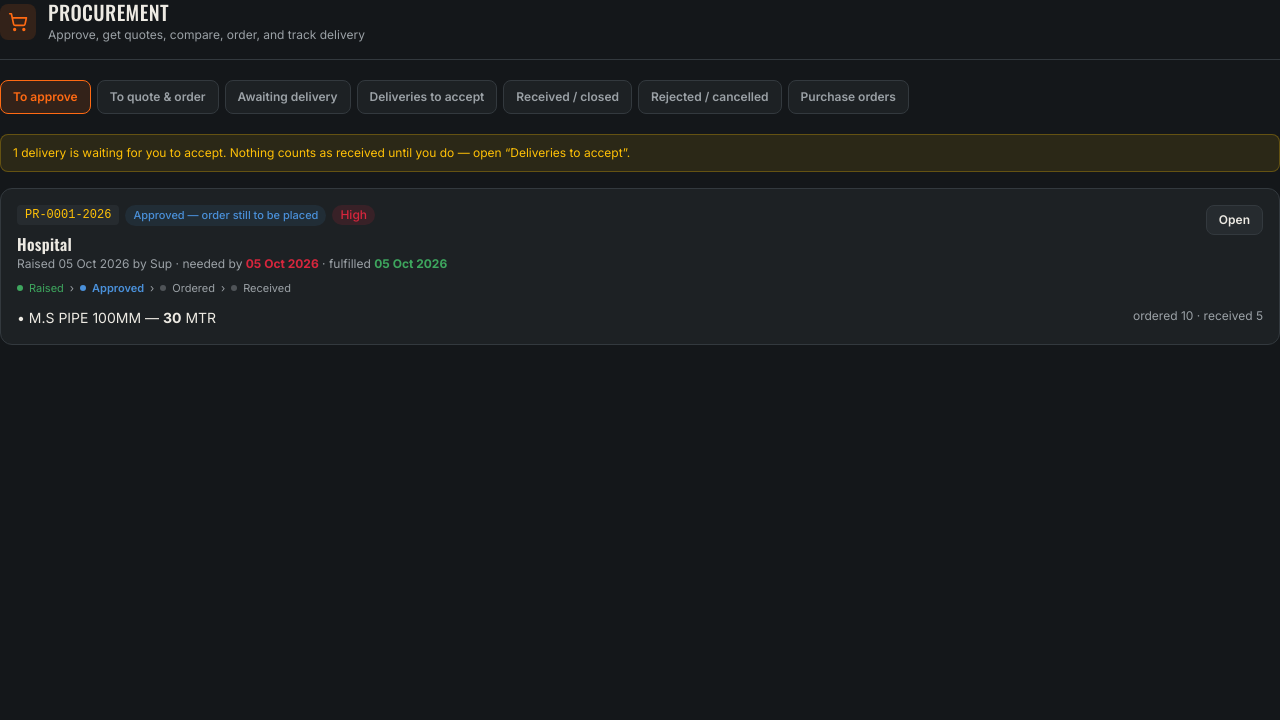
it: interactive paths render › Procurement request desk opens with comparison
The width and height of the screenshot is (1280, 720).
Click the button "To quote & order". click: (158, 97)
box: [97,80,218,114]
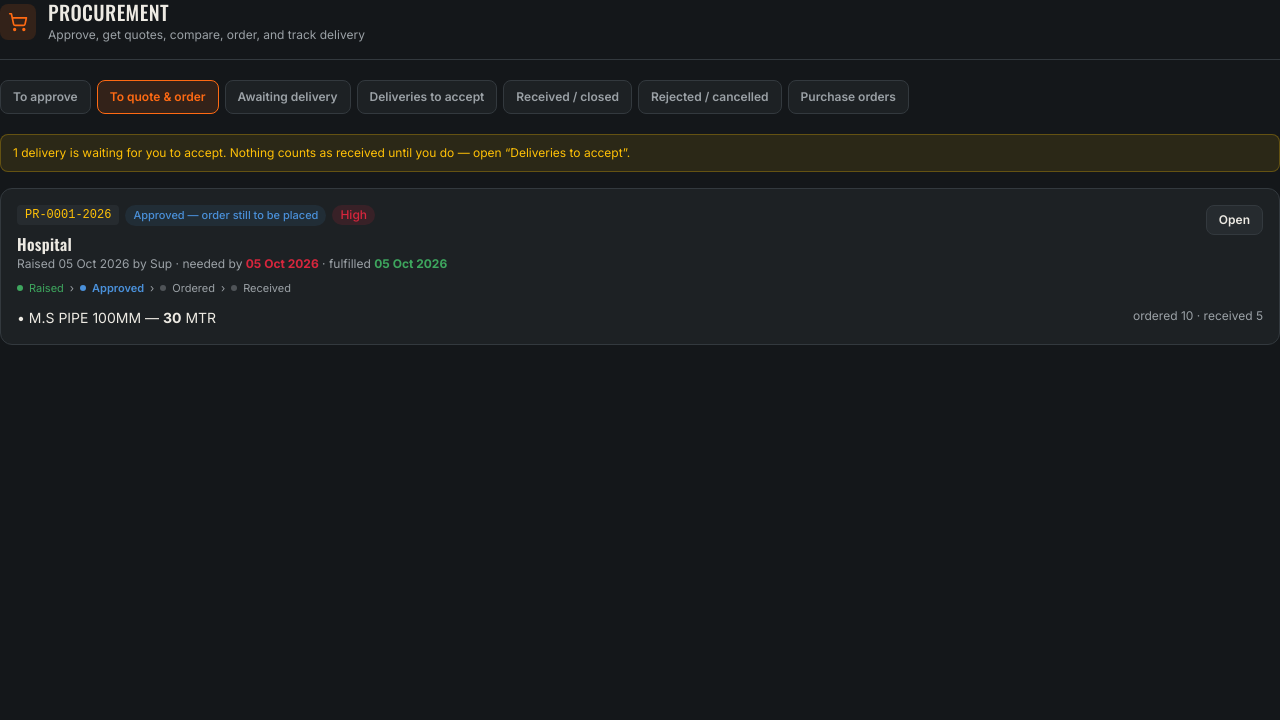
Click the button "Open". click: (1234, 220)
box: [1206,205,1263,235]
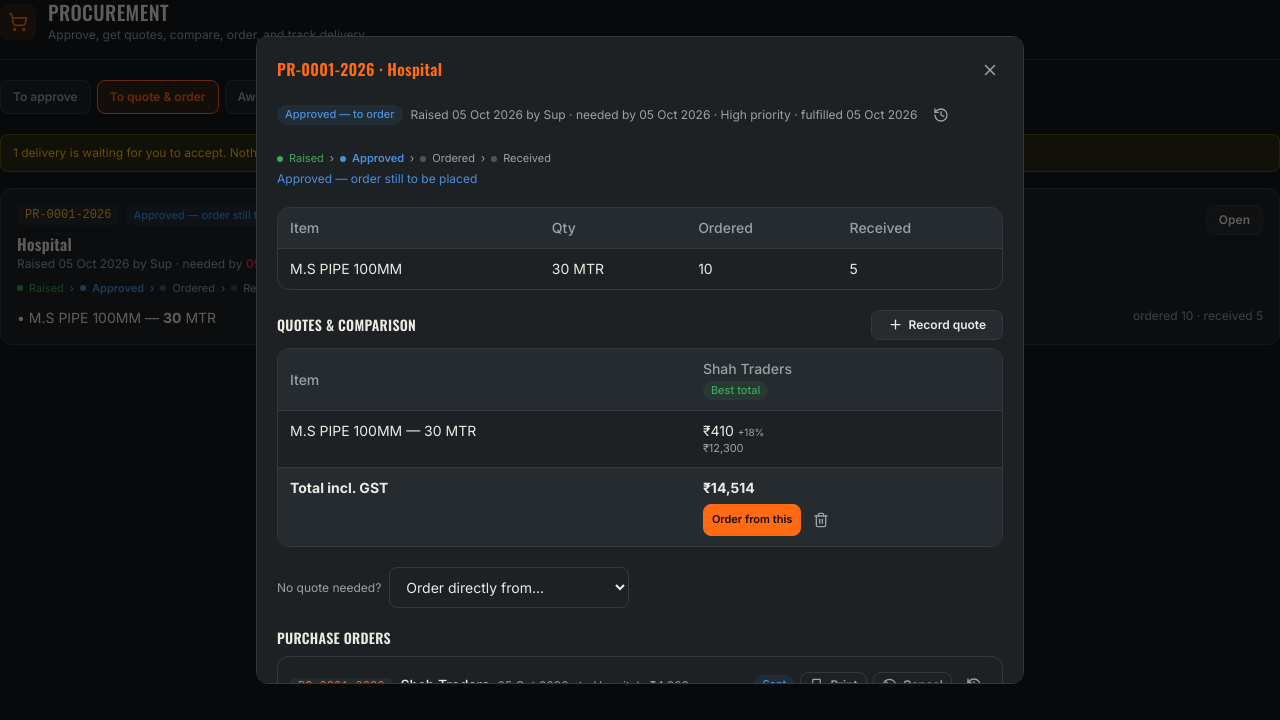
Expected: the text "QUOTES & COMPARISON" is shown, [277,315,416,335]
Expected: the text "Order from this" is shown, [703,504,801,536]
